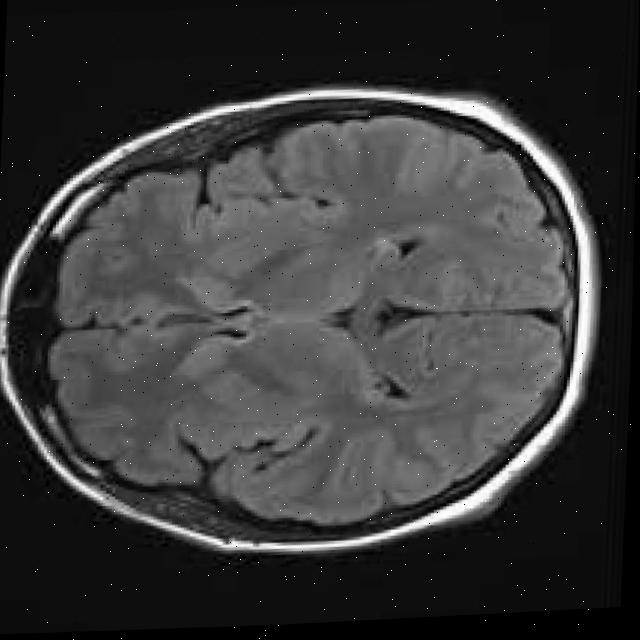NoTumor: (0, 63, 608, 579)
